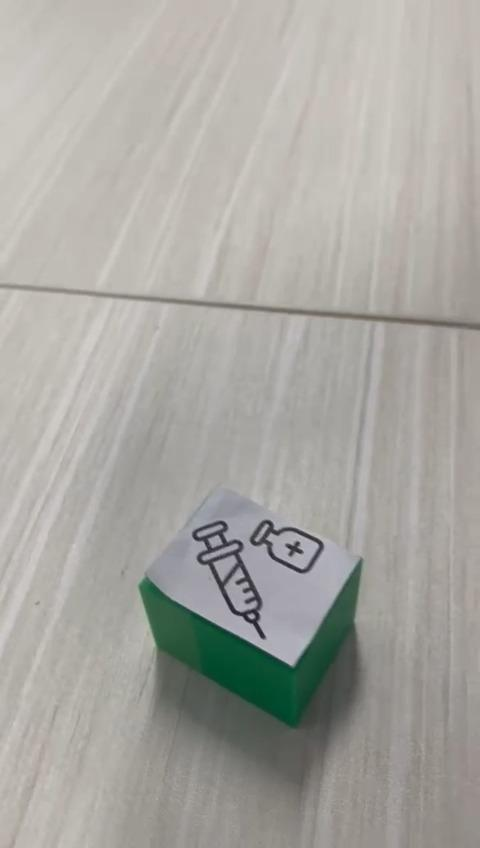antiseptic cream: (137, 484, 364, 728)
